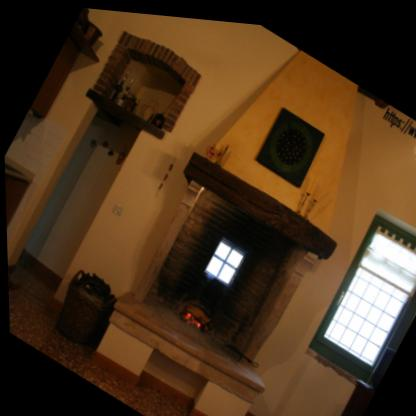Window: (307, 203, 416, 380)
